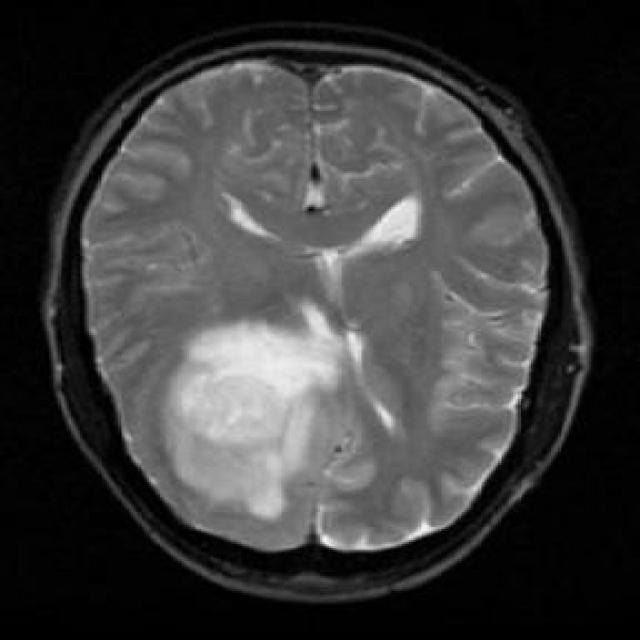brain tumor: (162, 299, 347, 520)
